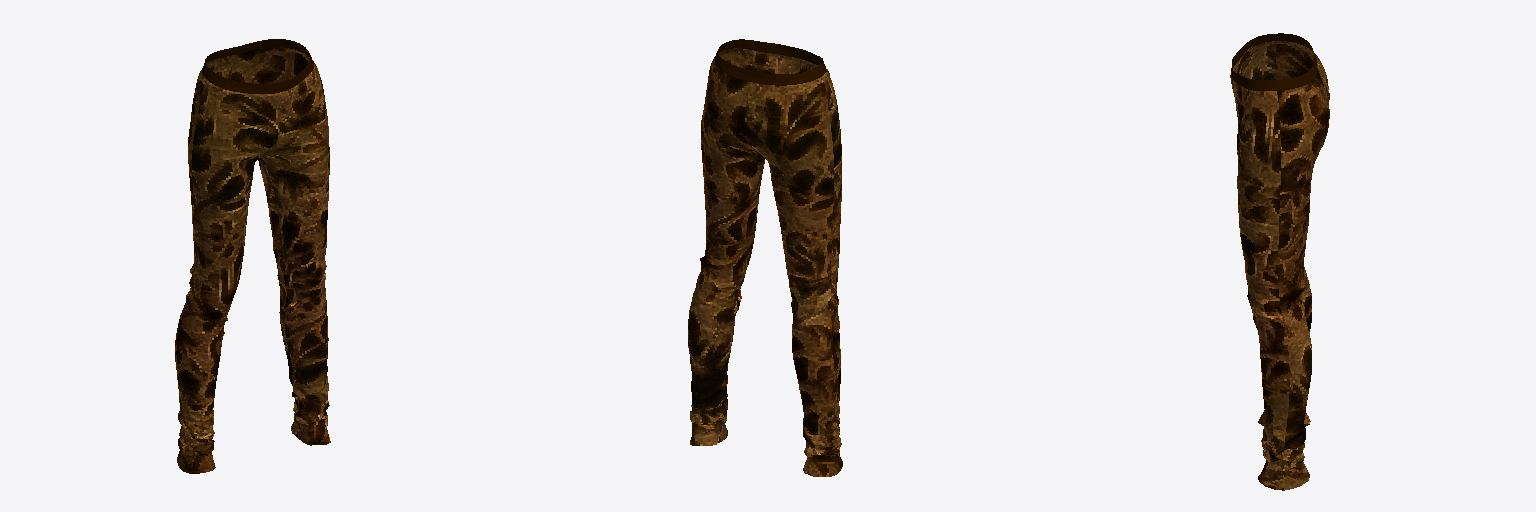
3 renders of one model, left to right at view 1: azimuth 30°, elevation 25°; view 2: azimuth 150°, elevation 25°; view 3: azimuth 270°, elevation 25°, orthographic.
Parts seen in each view (by area): view 1: Cloth_Shape; view 2: Cloth_Shape; view 3: Cloth_Shape.
Part boxes in pixels (x1,y1,x2,y2): Cloth_Shape: (175,39,330,473); Cloth_Shape: (688,39,842,476); Cloth_Shape: (1230,33,1329,490).
Bounding box in the file's own units: 407 × 1062 × 239.
2 materials, 1 textured.